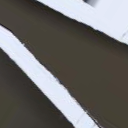crackTip: (1, 1, 128, 126)
